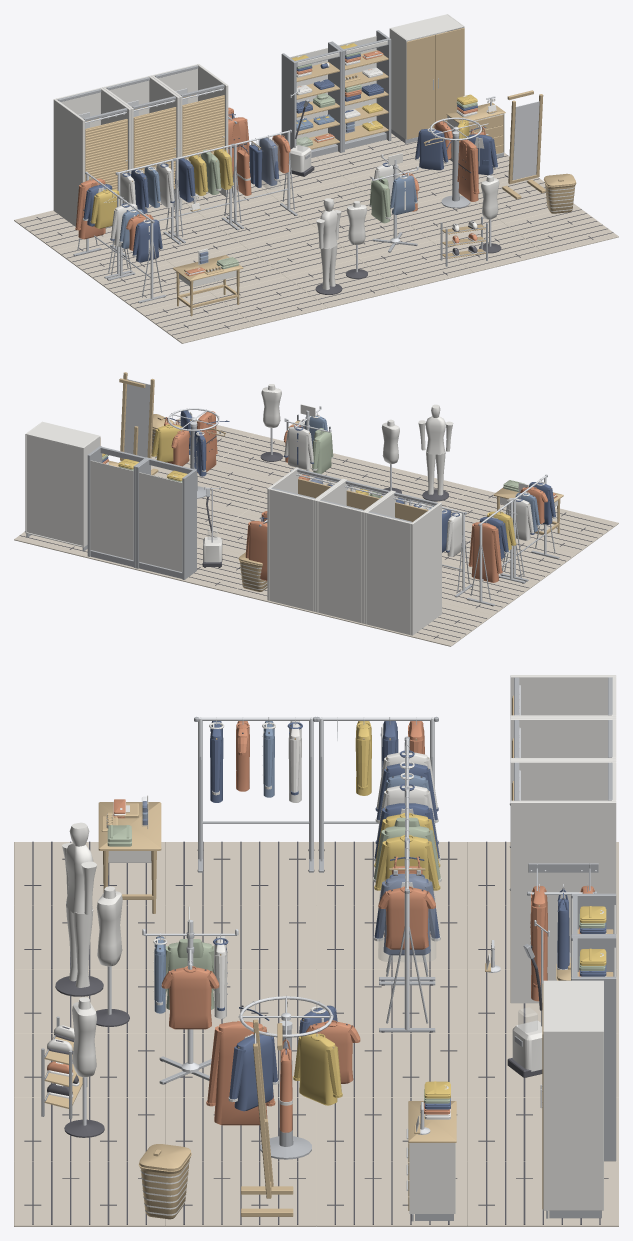
The model's file is thrift-store-rack.glb.
3 views of the same model, one above another, from view 1: azimuth 30°, elevation 25°; view 2: azimuth 150°, elevation 25°; view 3: azimuth 270°, elevation 25° (orthographic). The views are drawn at different scales.
Parts seen in each view (by area): view 1: 024-fitting-room-cubicle/0, 012-shop-floor-tile/0, 020-shop-floor-tile/0, 000-shop-floor-tile/0, 004-shop-floor-tile/0, 010-shop-floor-tile/0, 095-wardrobe-with-hanging-space/wardrobe-door-left/timber, 031-folded-stock-shelving-bay/0, 095-wardrobe-with-hanging-space/0, 009-shop-floor-tile/0, 001-shop-floor-tile/0, 008-shop-floor-tile/0 (+76 smaller); view 2: 024-fitting-room-cubicle/0, 095-wardrobe-with-hanging-space/0, 025-fitting-room-cubicle/0, 026-fitting-room-cubicle/0, 032-folded-stock-shelving-bay/2, 031-folded-stock-shelving-bay/2, 031-folded-stock-shelving-bay/0, 017-shop-floor-tile/0, 002-shop-floor-tile/0, 000-shop-floor-tile/0, 016-shop-floor-tile/0, 003-shop-floor-tile/0 (+45 smaller); view 3: 026-fitting-room-cubicle/0, 095-wardrobe-with-hanging-space/0, 001-shop-floor-tile/0, 020-shop-floor-tile/0, 016-shop-floor-tile/0, 010-shop-floor-tile/0, 021-shop-floor-tile/0, 005-shop-floor-tile/0, 022-shop-floor-tile/0, 014-shop-floor-tile/0, 008-shop-floor-tile/0, 012-shop-floor-tile/0 (+68 smaller).
Part boxes in pixels (x1,y1,x2,y2): 024-fitting-room-cubicle/0: (53, 87, 131, 226); 012-shop-floor-tile/0: (359, 241, 473, 290); 020-shop-floor-tile/0: (504, 206, 618, 254); 000-shop-floor-tile/0: (140, 294, 254, 343); 004-shop-floor-tile/0: (213, 277, 327, 325); 010-shop-floor-tile/0: (202, 197, 315, 245); 095-wardrobe-with-hanging-space/wardrobe-door-left/timber: (406, 35, 435, 139); 031-folded-stock-shelving-bay/0: (281, 42, 342, 157); 095-wardrobe-with-hanging-space/0: (389, 14, 464, 139); 009-shop-floor-tile/0: (244, 228, 355, 276); 001-shop-floor-tile/0: (98, 264, 212, 312); 008-shop-floor-tile/0: (286, 259, 400, 308); 024-fitting-room-cubicle/0: (364, 491, 441, 635); 095-wardrobe-with-hanging-space/0: (25, 421, 100, 547); 025-fitting-room-cubicle/0: (315, 479, 392, 623); 026-fitting-room-cubicle/0: (267, 467, 344, 611); 032-folded-stock-shelving-bay/2: (90, 460, 133, 560); 031-folded-stock-shelving-bay/2: (139, 472, 182, 571); 031-folded-stock-shelving-bay/0: (136, 458, 196, 579); 017-shop-floor-tile/0: (197, 465, 277, 513); 002-shop-floor-tile/0: (442, 567, 534, 615); 000-shop-floor-tile/0: (516, 507, 618, 553); 016-shop-floor-tile/0: (215, 434, 303, 480); 003-shop-floor-tile/0: (378, 603, 492, 646); 026-fitting-room-cubicle/0: (510, 760, 616, 1003); 095-wardrobe-with-hanging-space/0: (543, 980, 603, 1210); 001-shop-floor-tile/0: (165, 842, 316, 905); 020-shop-floor-tile/0: (14, 1161, 165, 1226); 016-shop-floor-tile/0: (14, 1097, 165, 1161); 010-shop-floor-tile/0: (316, 969, 467, 1033); 021-shop-floor-tile/0: (165, 1161, 316, 1226); 005-shop-floor-tile/0: (165, 905, 316, 969); 022-shop-floor-tile/0: (316, 1161, 467, 1226); 014-shop-floor-tile/0: (340, 1033, 467, 1097); 008-shop-floor-tile/0: (14, 969, 165, 1033); 012-shop-floor-tile/0: (14, 1033, 165, 1097).
Bounding box in the file's own units: 9 × 2.22 × 6.
